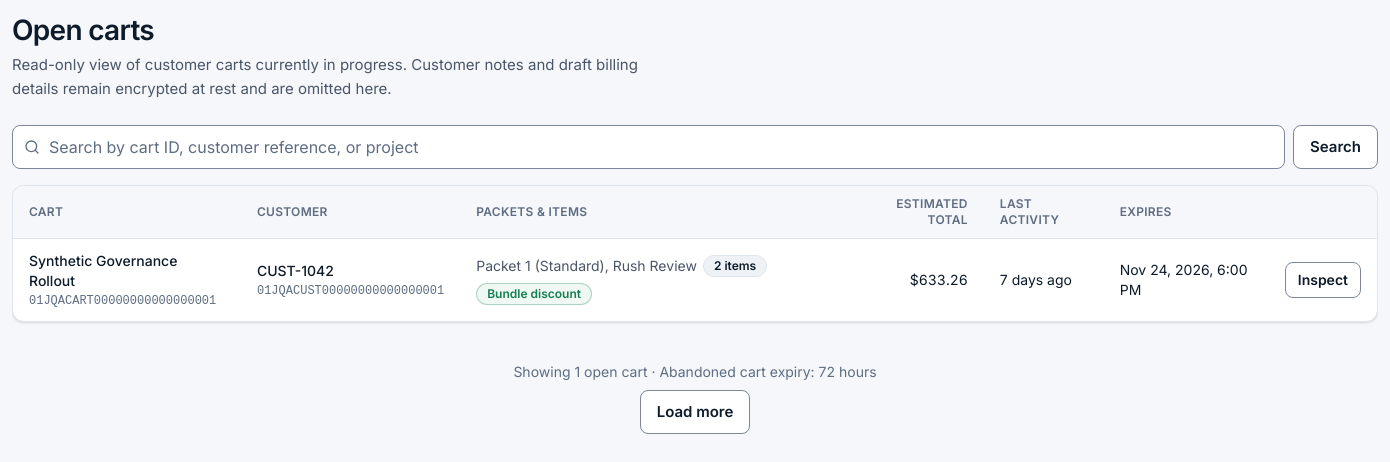
Test: cartFeature routes & console Open carts view › renders open carts and appends cursor pages via LoadMore
Expected: the heading "Open carts" is shown, x1=12 y1=12 x2=154 y2=49
Expected: the text "Synthetic Governance Rollout" is shown, x1=29 y1=252 x2=177 y2=289
Step 1. Click the button "Load more" → (695,412), box x1=640 y1=390 x2=750 y2=434
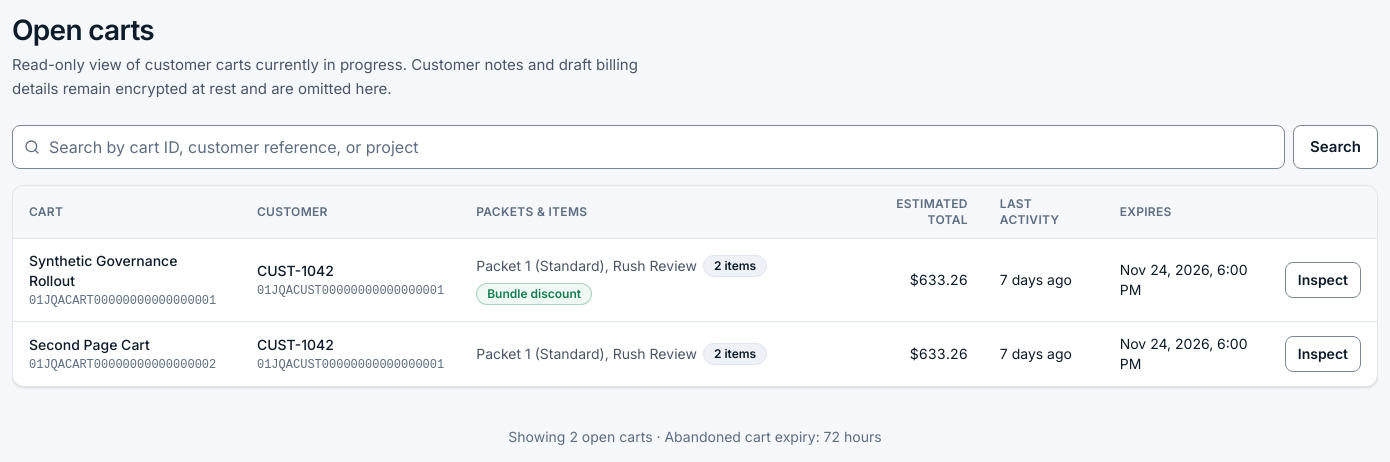
Result: the text "Second Page Cart" is shown at x1=29 y1=336 x2=150 y2=353
